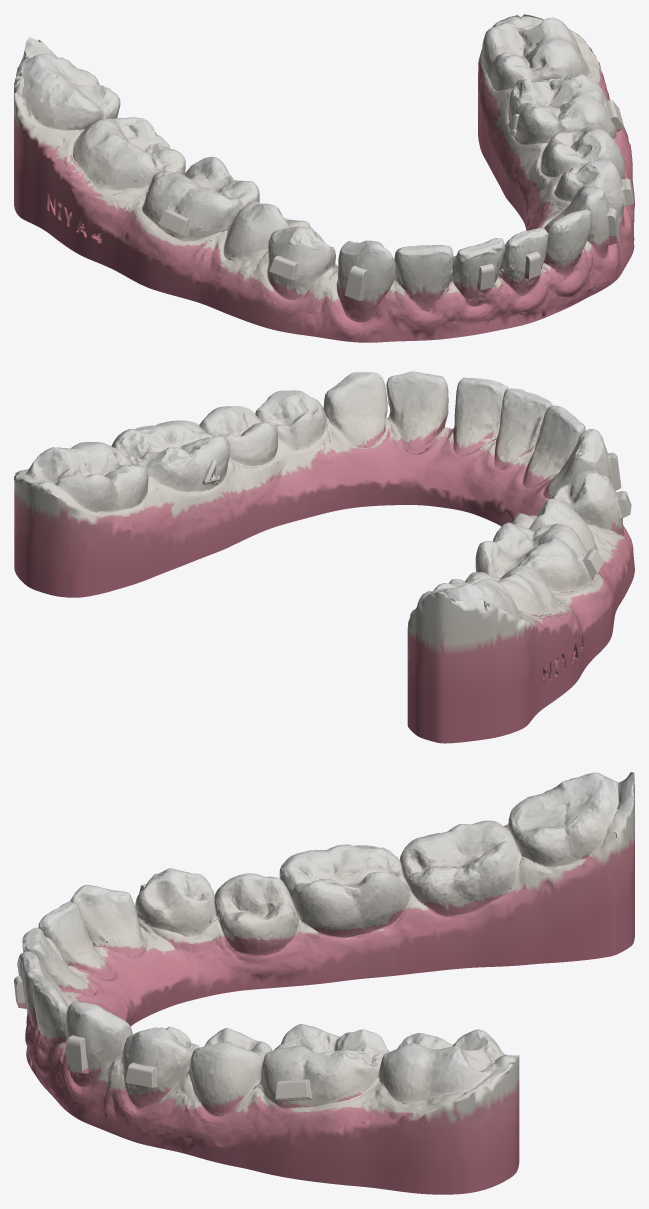
The model's file is Niya Priority Lower jaw - 04 - Model.glb.
3 views of the same model, one above another, from view 1: azimuth 30°, elevation 25°; view 2: azimuth 150°, elevation 25°; view 3: azimuth 270°, elevation 25° (orthographic). The views are drawn at different scales.
Visible parts, largest first — view 1: Niya Priority Lower jaw - 04 - Model; view 2: Niya Priority Lower jaw - 04 - Model; view 3: Niya Priority Lower jaw - 04 - Model.
Boxes of the visible parts, left/top/right/bottom form: Niya Priority Lower jaw - 04 - Model: left=14, top=14, right=634, bottom=342; Niya Priority Lower jaw - 04 - Model: left=14, top=371, right=634, bottom=743; Niya Priority Lower jaw - 04 - Model: left=14, top=772, right=634, bottom=1194.
Size of the model in its own units: 62.72 by 16.53 by 57.69.
